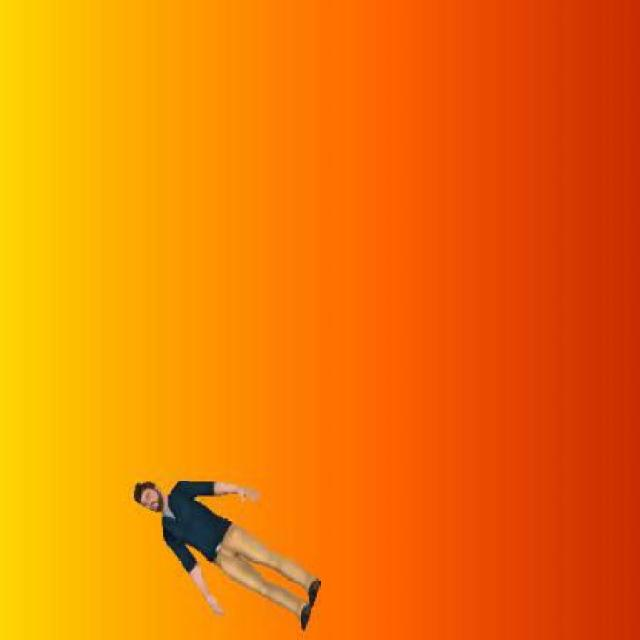Person: (132, 464, 323, 639)
